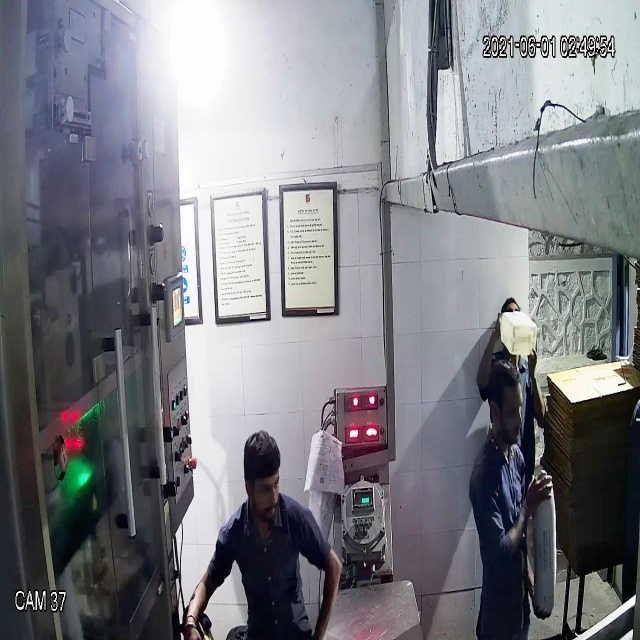Sin_gafas: (236, 465, 284, 503), (483, 393, 527, 429)
